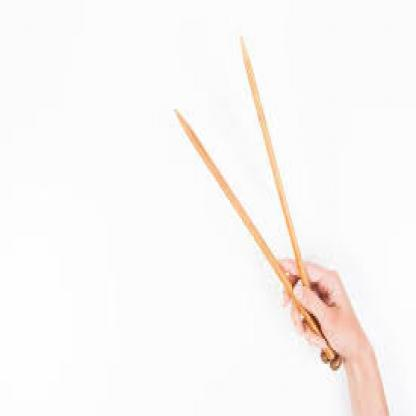chopstick: (174, 109, 342, 371), (241, 39, 325, 359)
